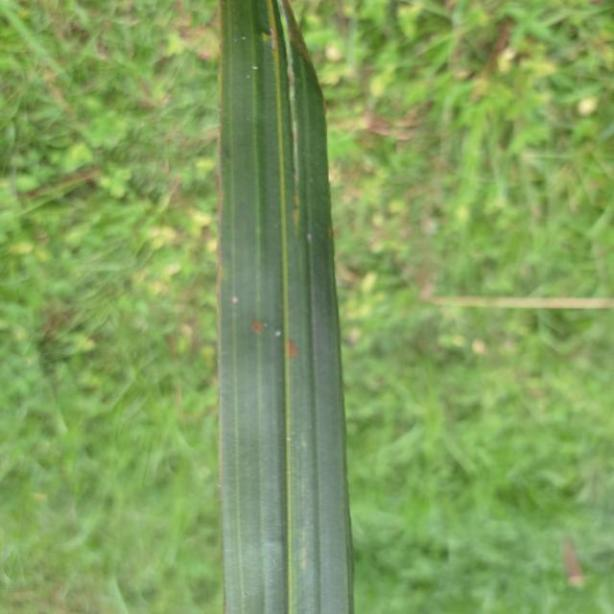Boron: (219, 0, 355, 614)
